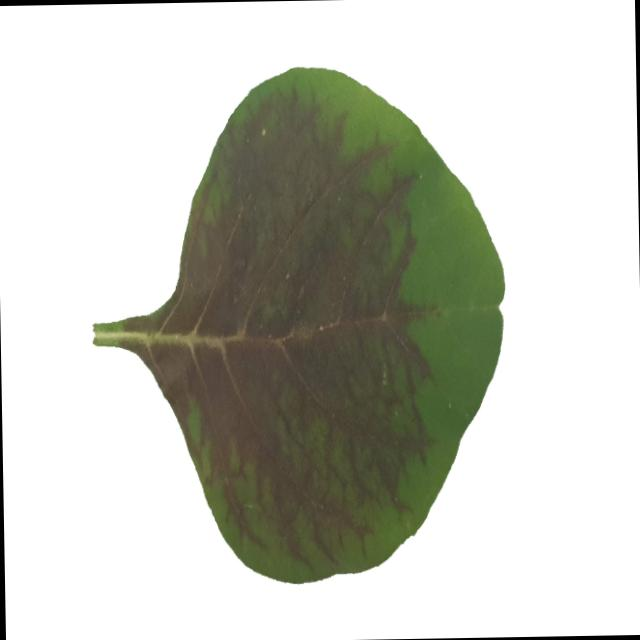Medicinal-Arive Dantu: (87, 62, 510, 586)
